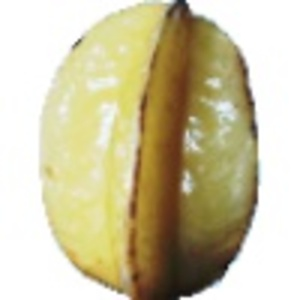carambola: (39, 1, 263, 300)
